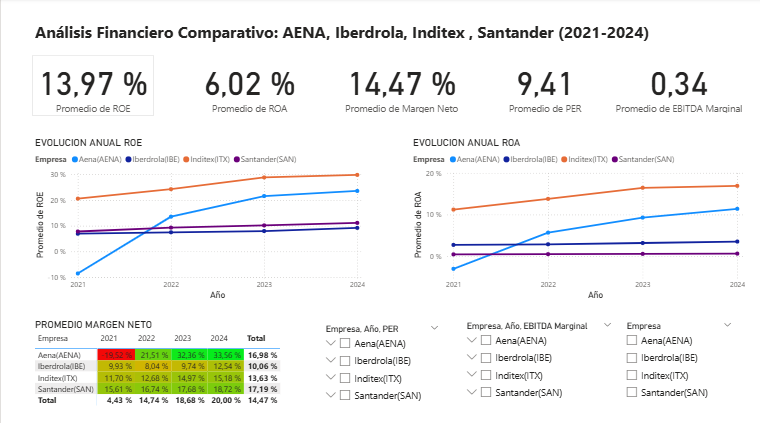

Layout of this report page (visuals, bound fields, positions):
{"tool":"powerbi","page":{"name":"Página 1","canvas":[1280,720],"ordinal":0},"visuals":[{"type":"card","fields":{"Values":["Avg(RATIOS.ROE)","select"]},"box":[52.1,95.7,204.9,102.5],"z":0},{"type":"card","fields":{"Values":["Avg(RATIOS.ROA)"]},"box":[295.6,95.7,243.6,102.5],"z":1000},{"type":"card","fields":{"Values":["Avg(RATIOS.Margen Neto)"]},"box":[554.3,95.7,236.9,102.5],"z":2000},{"type":"card","fields":{"Values":["Avg(RATIOS.PER)"]},"box":[804.6,95.7,218.4,102.5],"z":3000},{"type":"card","fields":{"Values":["Avg(RATIOS.EBITDA Marginal)"]},"box":[1023,95.7,231.8,102.5],"z":4000},{"type":"lineChart","title":"EVOLUCION ANUAL ROE","fields":{"Category":["RATIOS.Año"],"Series":["RATIOS.Empresa"],"Y":["Avg(RATIOS.ROE)"]},"box":[52.1,231.8,564.4,280.5],"z":5000},{"type":"lineChart","title":"EVOLUCION ANUAL ROA","fields":{"Category":["RATIOS.Año"],"Series":["RATIOS.Empresa"],"Y":["Avg(RATIOS.ROA)"]},"box":[687,231.8,567.8,280.5],"z":6000},{"type":"pivotTable","title":"PROMEDIO MARGEN NETO","fields":{"Rows":["RATIOS.Empresa"],"Columns":["RATIOS.Año"],"Values":["Avg(RATIOS.Margen Neto)"]},"box":[52.1,537.5,487.1,164.6],"z":7000},{"type":"slicer","fields":{"Values":["RATIOS.Empresa","RATIOS.Año","RATIOS.PER"]},"box":[532.5,542.6,215,154.5],"z":8000},{"type":"slicer","fields":{"Values":["RATIOS.Empresa","RATIOS.Año","RATIOS.EBITDA Marginal"]},"box":[769.3,537.5,268.8,154.5],"z":9000},{"type":"slicer","fields":{"Values":["RATIOS.Empresa"]},"box":[1038.1,537.5,201.6,154.5],"z":10000},{"type":"textbox","title":"A","box":[52.1,0,1135.5,95.7],"z":11000}]}

Visuals, with their boxes in screenshot pixels (x1, y1, x2, y2), scaled from the page's 1280x720 canvas onto the 760x423 screenshot:
card - Avg(RATIOS.ROE) x select: pyautogui.locateOnScreen(31, 56, 153, 116)
card - Avg(RATIOS.ROA): pyautogui.locateOnScreen(176, 56, 320, 116)
card - Avg(RATIOS.Margen Neto): pyautogui.locateOnScreen(329, 56, 470, 116)
card - Avg(RATIOS.PER): pyautogui.locateOnScreen(478, 56, 607, 116)
card - Avg(RATIOS.EBITDA Marginal): pyautogui.locateOnScreen(607, 56, 745, 116)
"EVOLUCION ANUAL ROE" lineChart: pyautogui.locateOnScreen(31, 136, 366, 301)
"EVOLUCION ANUAL ROA" lineChart: pyautogui.locateOnScreen(408, 136, 745, 301)
"PROMEDIO MARGEN NETO" pivotTable: pyautogui.locateOnScreen(31, 316, 320, 412)
slicer - RATIOS.Empresa x RATIOS.Año: pyautogui.locateOnScreen(316, 319, 444, 410)
slicer - RATIOS.Empresa x RATIOS.Año: pyautogui.locateOnScreen(457, 316, 616, 407)
slicer - RATIOS.Empresa: pyautogui.locateOnScreen(616, 316, 736, 407)
"A" textbox: pyautogui.locateOnScreen(31, 0, 705, 56)
